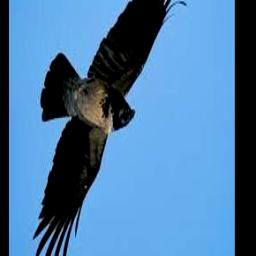Crow: (33, 0, 186, 256)
